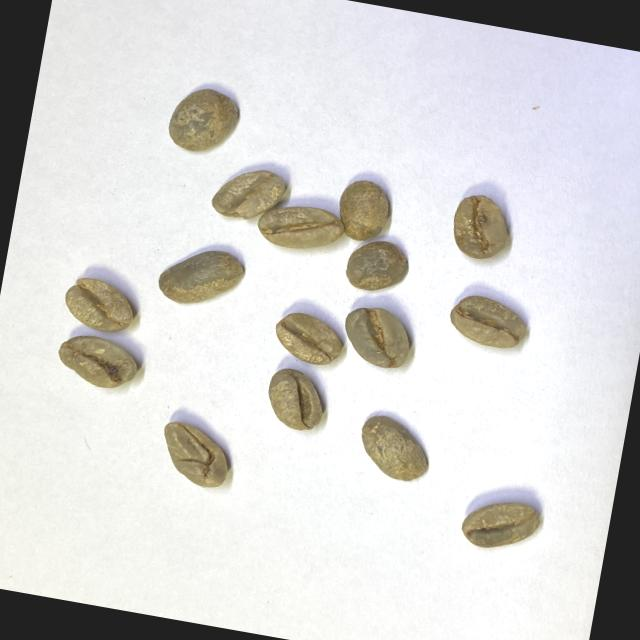bad: (152, 416, 236, 492), (337, 299, 417, 373), (208, 162, 292, 228)
good: (155, 240, 248, 314), (163, 82, 243, 160), (353, 411, 435, 486), (458, 491, 544, 557), (54, 330, 142, 394), (58, 272, 140, 338), (445, 292, 533, 353), (446, 189, 516, 265), (253, 200, 344, 258), (268, 306, 348, 369), (260, 364, 330, 434), (340, 236, 414, 298), (332, 176, 394, 246)
